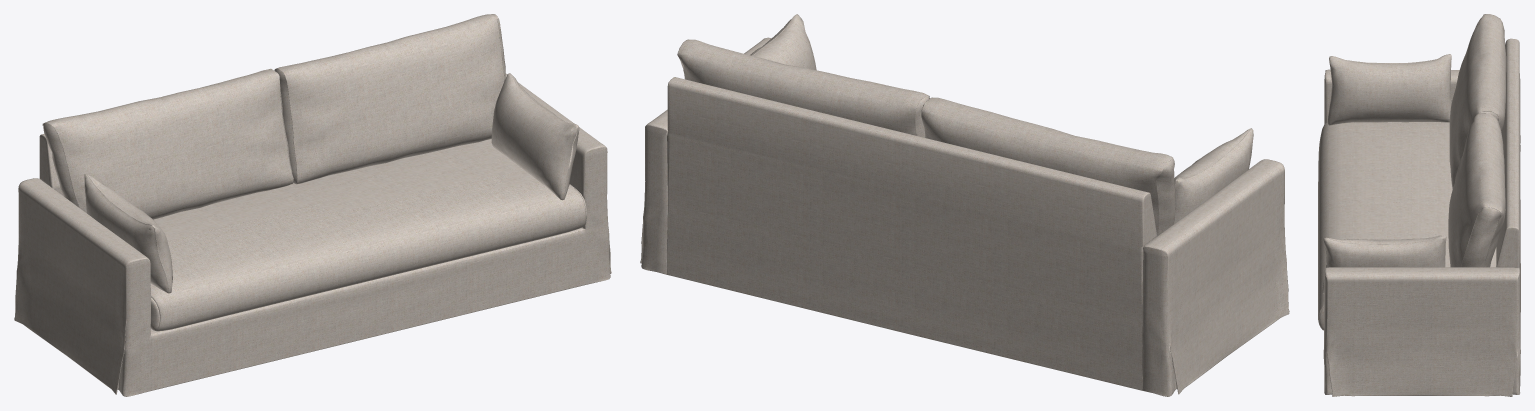
The model's file is 13 - HYLTARP 3-seat sofa - Gransel natural.glb.
3 renders of one model, left to right at view 1: azimuth 30°, elevation 25°; view 2: azimuth 150°, elevation 25°; view 3: azimuth 270°, elevation 25°, orthographic. The views are drawn at different scales.
Visible parts, largest first — view 1: Mesh_0; view 2: Mesh_0; view 3: Mesh_0.
Boxes of the visible parts, bbox=[...] form: Mesh_0: bbox=[14, 14, 611, 396]; Mesh_0: bbox=[640, 14, 1289, 396]; Mesh_0: bbox=[1318, 14, 1520, 396].
Bounding box in the file's own units: 2.32 × 0.9101 × 0.9305.
Materials: 1 (1 with a texture image).
